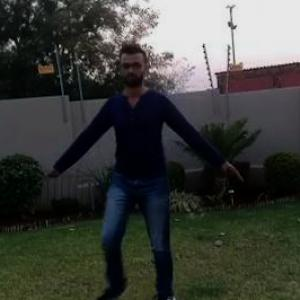land: (44, 45, 235, 299)
